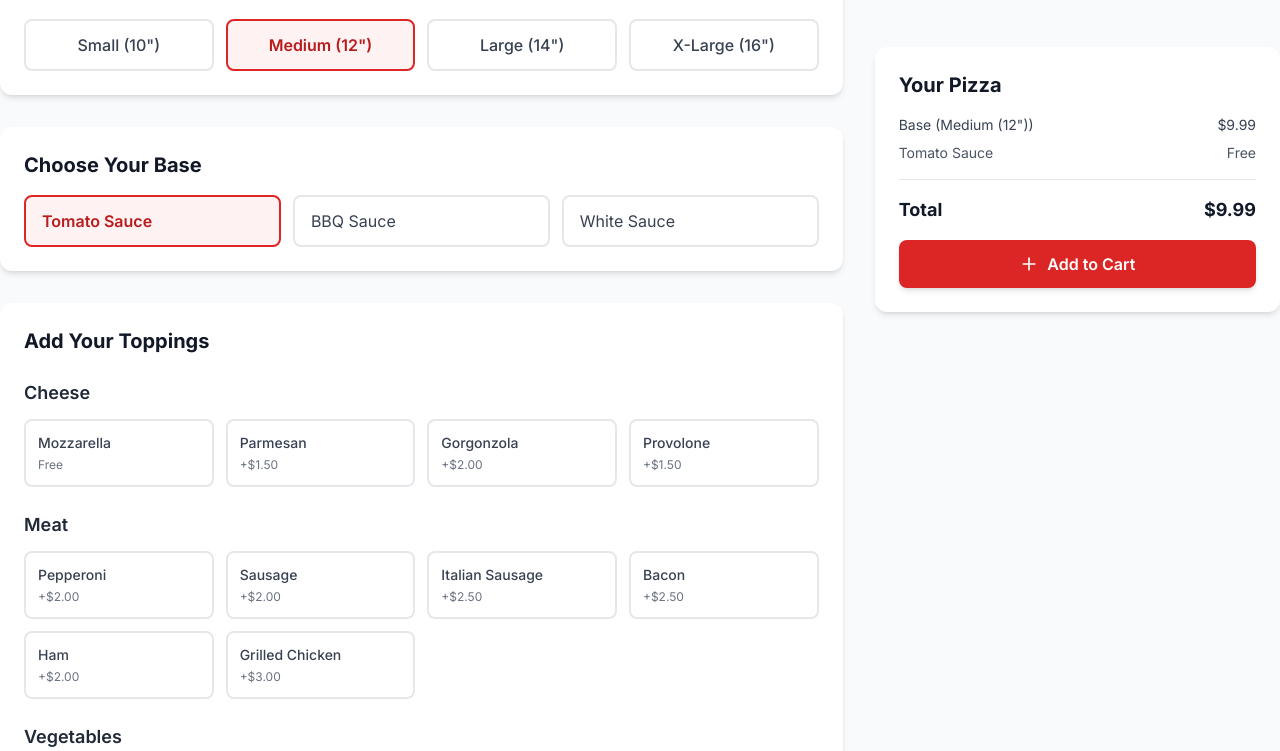
Test case: PizzaBuilder › should calculate correct price with multiple toppings
Add pepperoni ($2.00) + mushrooms ($1.50) to medium base ($9.99)
Click the button "Pepperoni +$2.00".
click(119, 585)  # box [24,551,214,619]
(page scrolled)
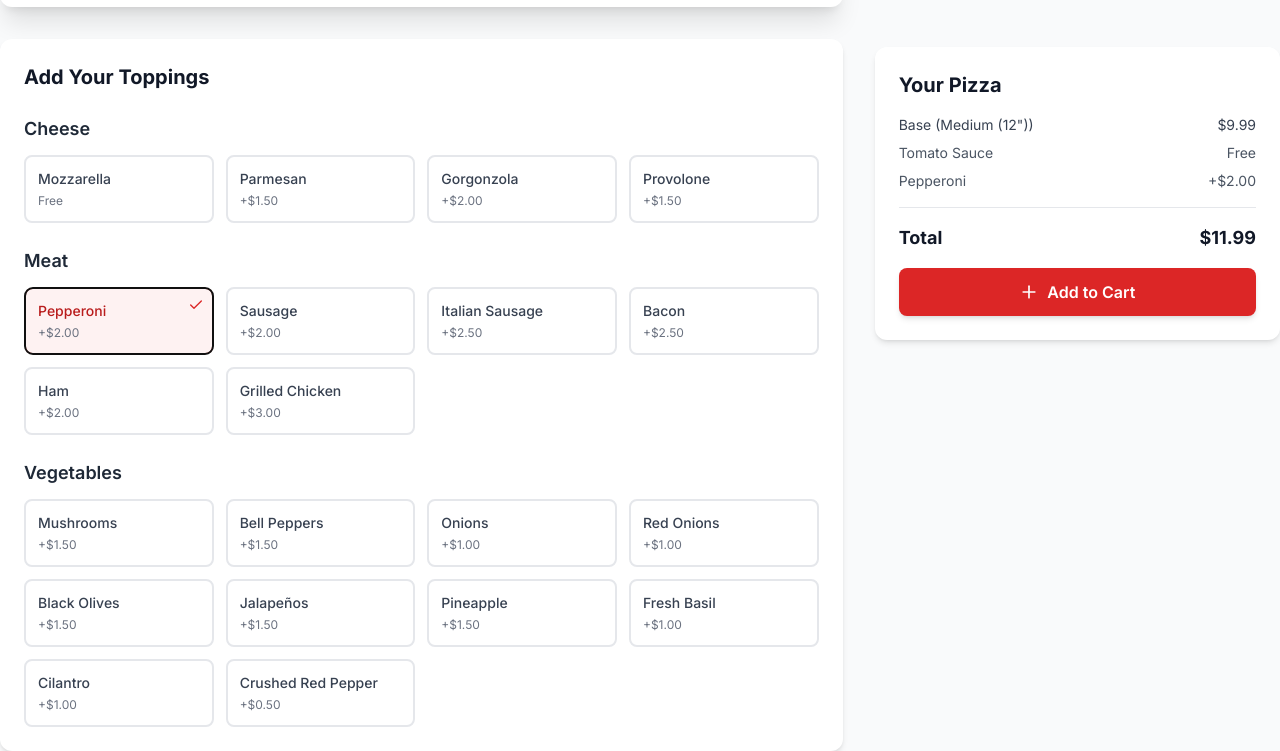
Click the button "Mushrooms +$1.50".
click(119, 533)  # box [24,499,214,567]
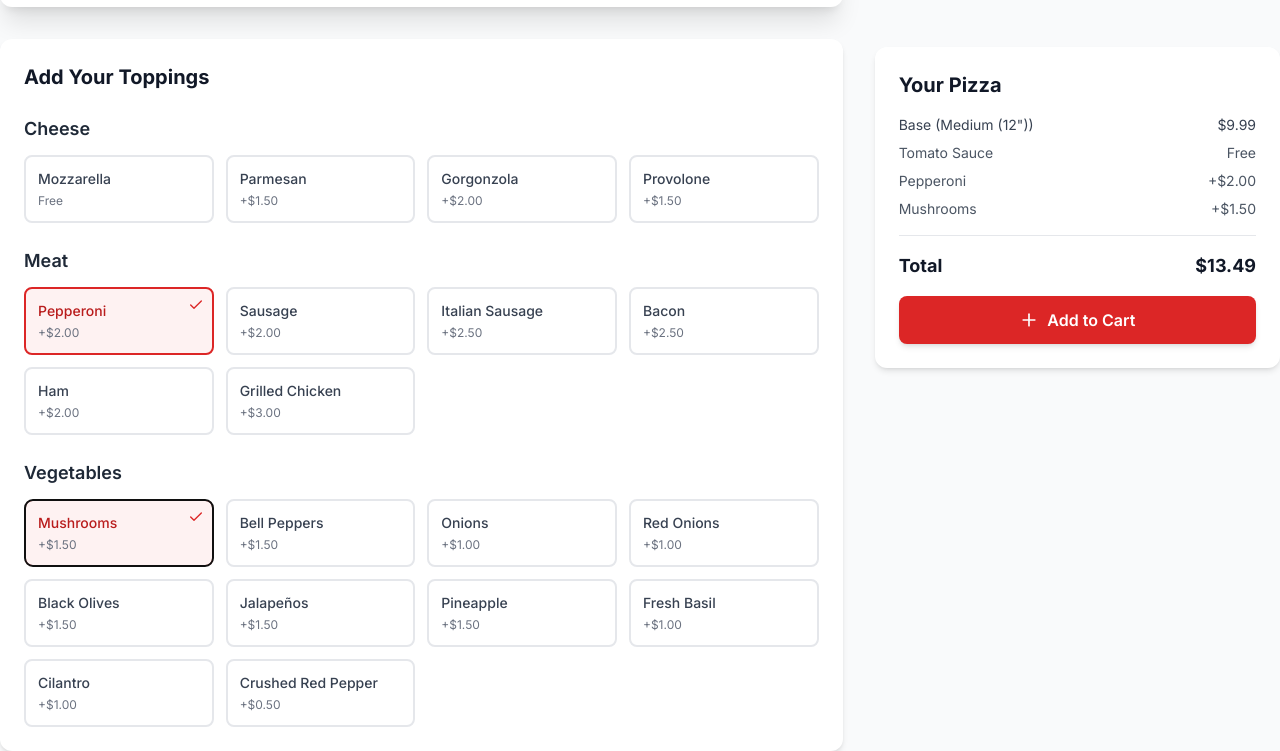
Expected: the text "$13.49" is shown, [1195,252,1256,280]
